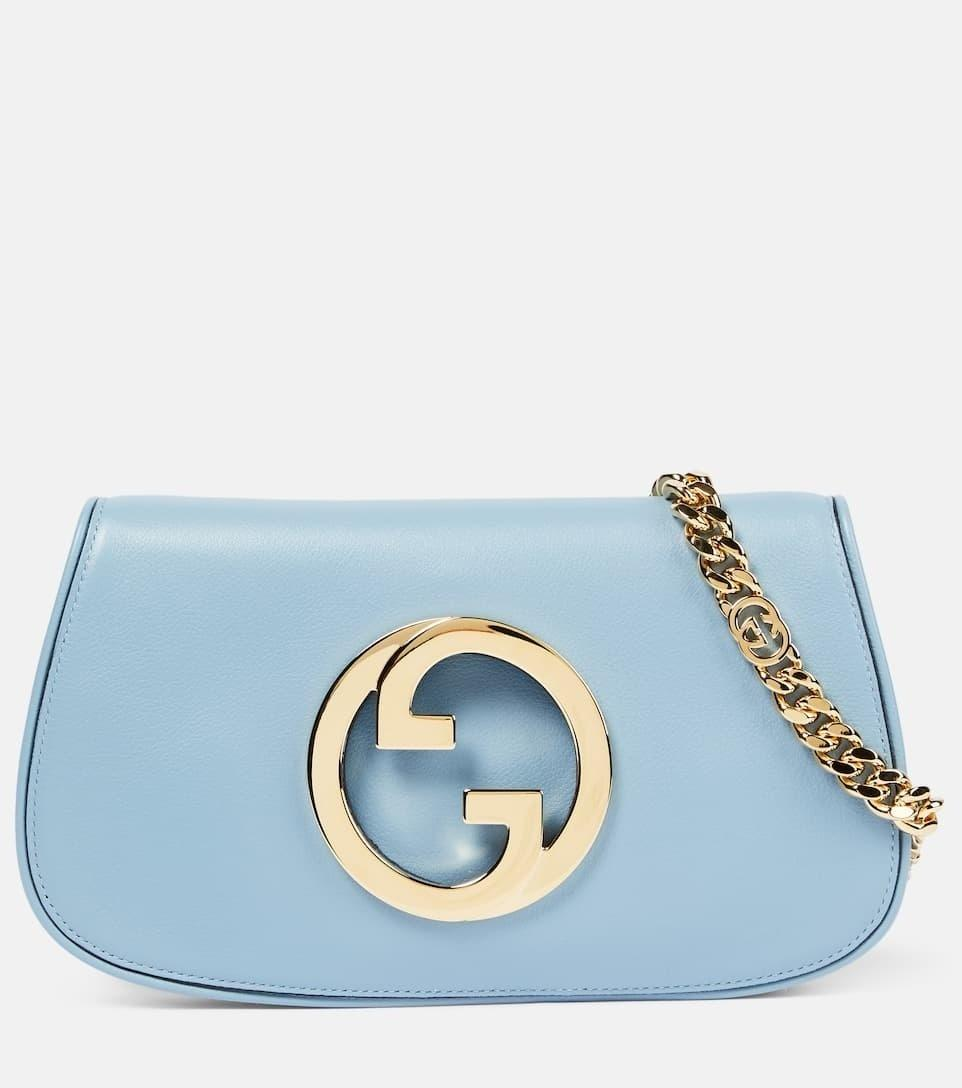GUCCI: (305, 614, 614, 923)
